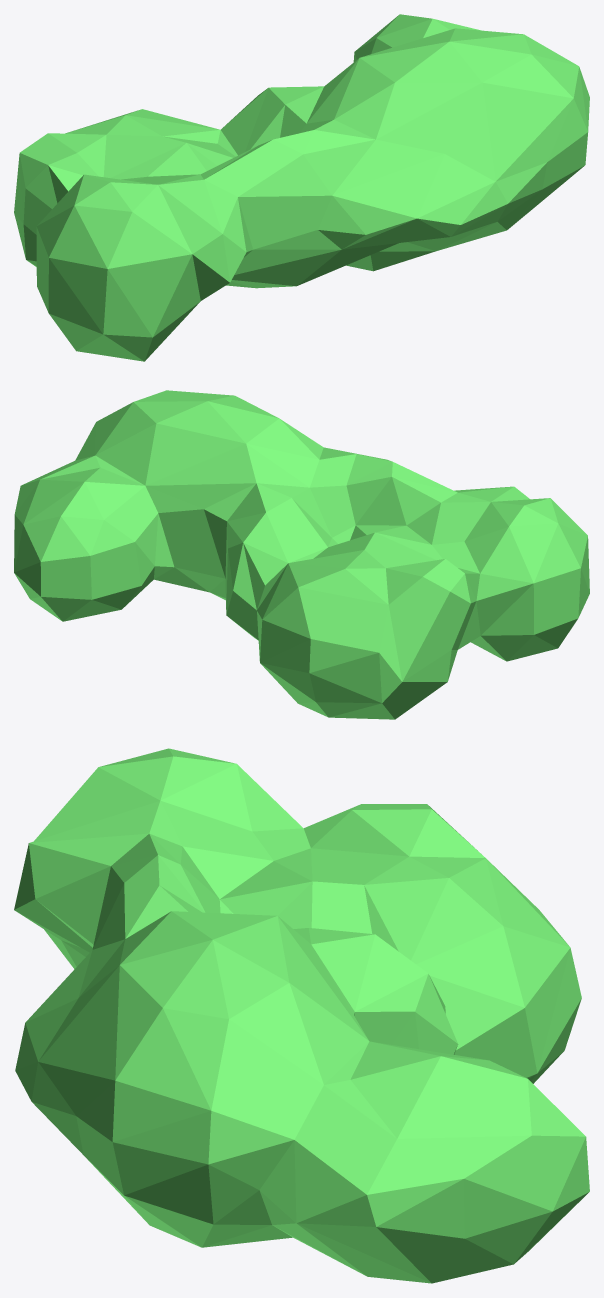
File: cloud_02.glb
The picture shows the model from 3 angles, top to bottom: view 1: azimuth 30°, elevation 25°; view 2: azimuth 150°, elevation 25°; view 3: azimuth 270°, elevation 25°; orthographic projection. The views are drawn at different scales.
Parts seen in each view (by area): view 1: cloud_02; view 2: cloud_02; view 3: cloud_02.
Boxes of the visible parts, x1=… form: cloud_02: x1=14, y1=14, x2=589, y2=361; cloud_02: x1=14, y1=390, x2=589, y2=719; cloud_02: x1=14, y1=748, x2=589, y2=1283.
Bounding box in the file's own units: 7.37 × 2.98 × 4.41.
